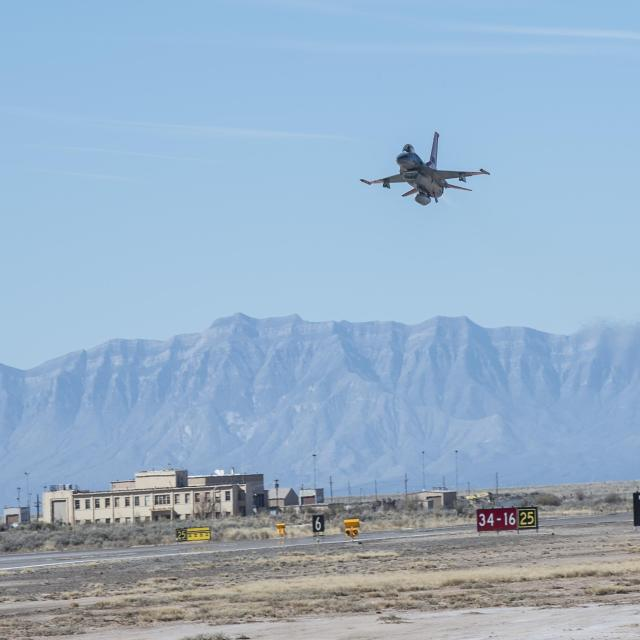MIL_Plane: (359, 131, 490, 206)
